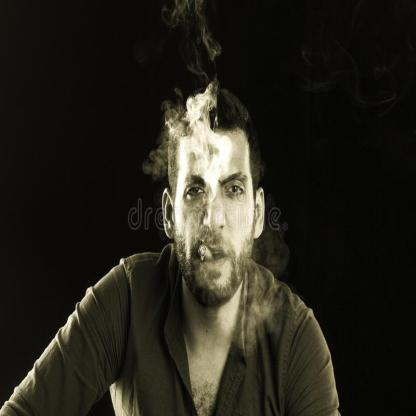smoke: (146, 74, 237, 228), (162, 0, 224, 67)
